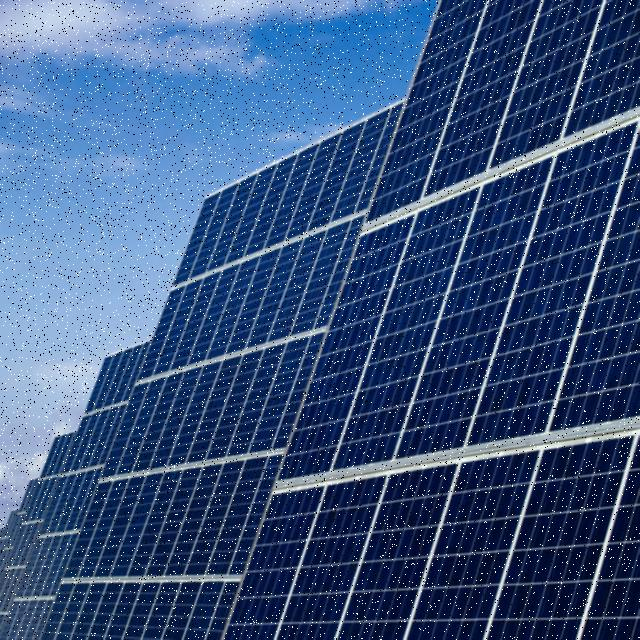clean: (0, 6, 639, 640)
